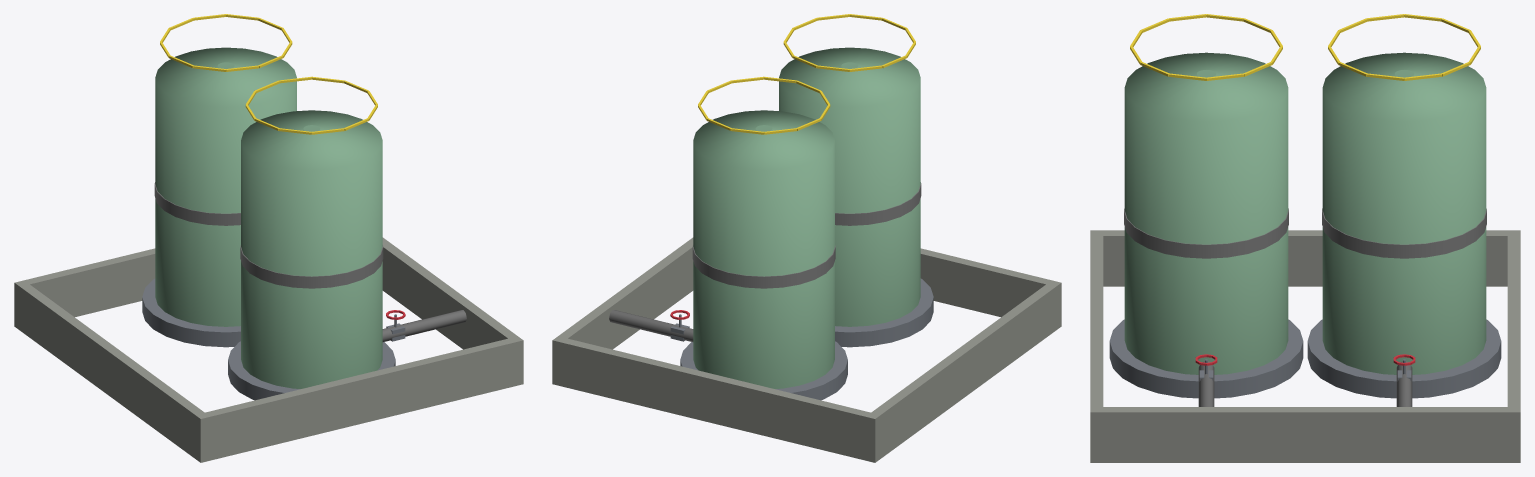
The model's file is port_cargo3.fbx.
3 renders of one model, left to right at view 1: azimuth 30°, elevation 25°; view 2: azimuth 150°, elevation 25°; view 3: azimuth 270°, elevation 25°, orthographic. The views are drawn at different scales.
Parts seen in each view (by area): view 1: a402_0_port_cargo3; view 2: a402_0_port_cargo3; view 3: a402_0_port_cargo3.
Part boxes in pixels (box(x1,y1,x2,y2)): a402_0_port_cargo3: box(14, 14, 523, 462); a402_0_port_cargo3: box(552, 14, 1061, 462); a402_0_port_cargo3: box(1090, 14, 1520, 462).
Size of the model in its own units: 10 by 8.35 by 10.
